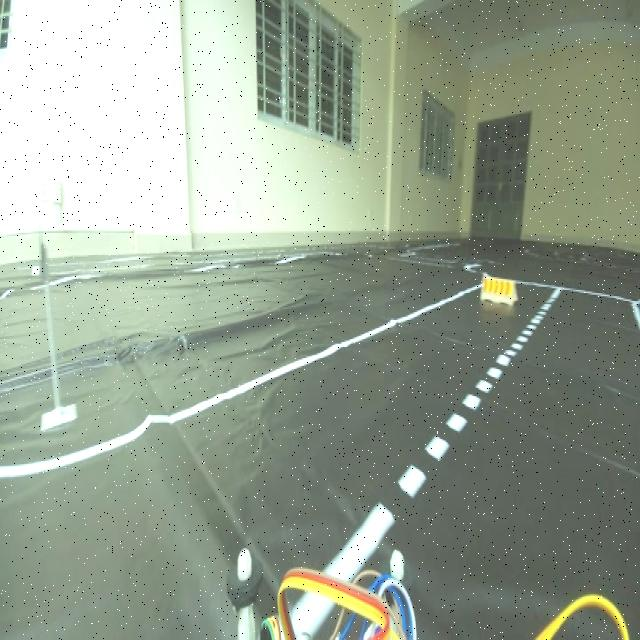roadblock: (478, 270, 518, 308)
